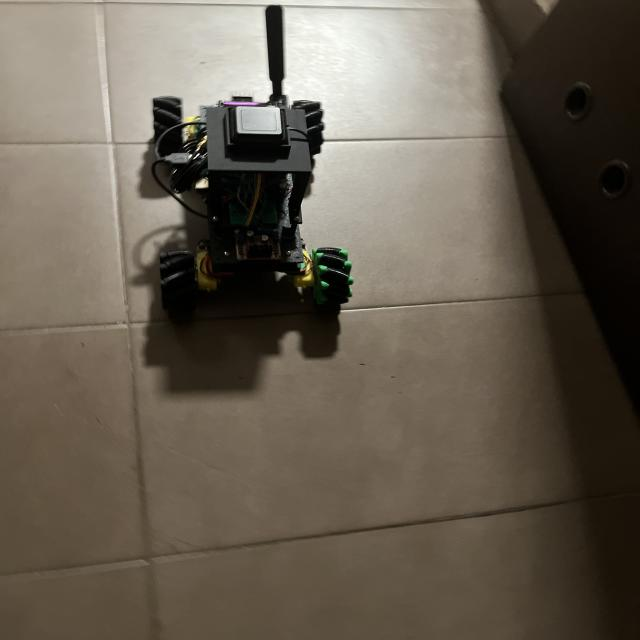robot: (151, 5, 353, 314)
